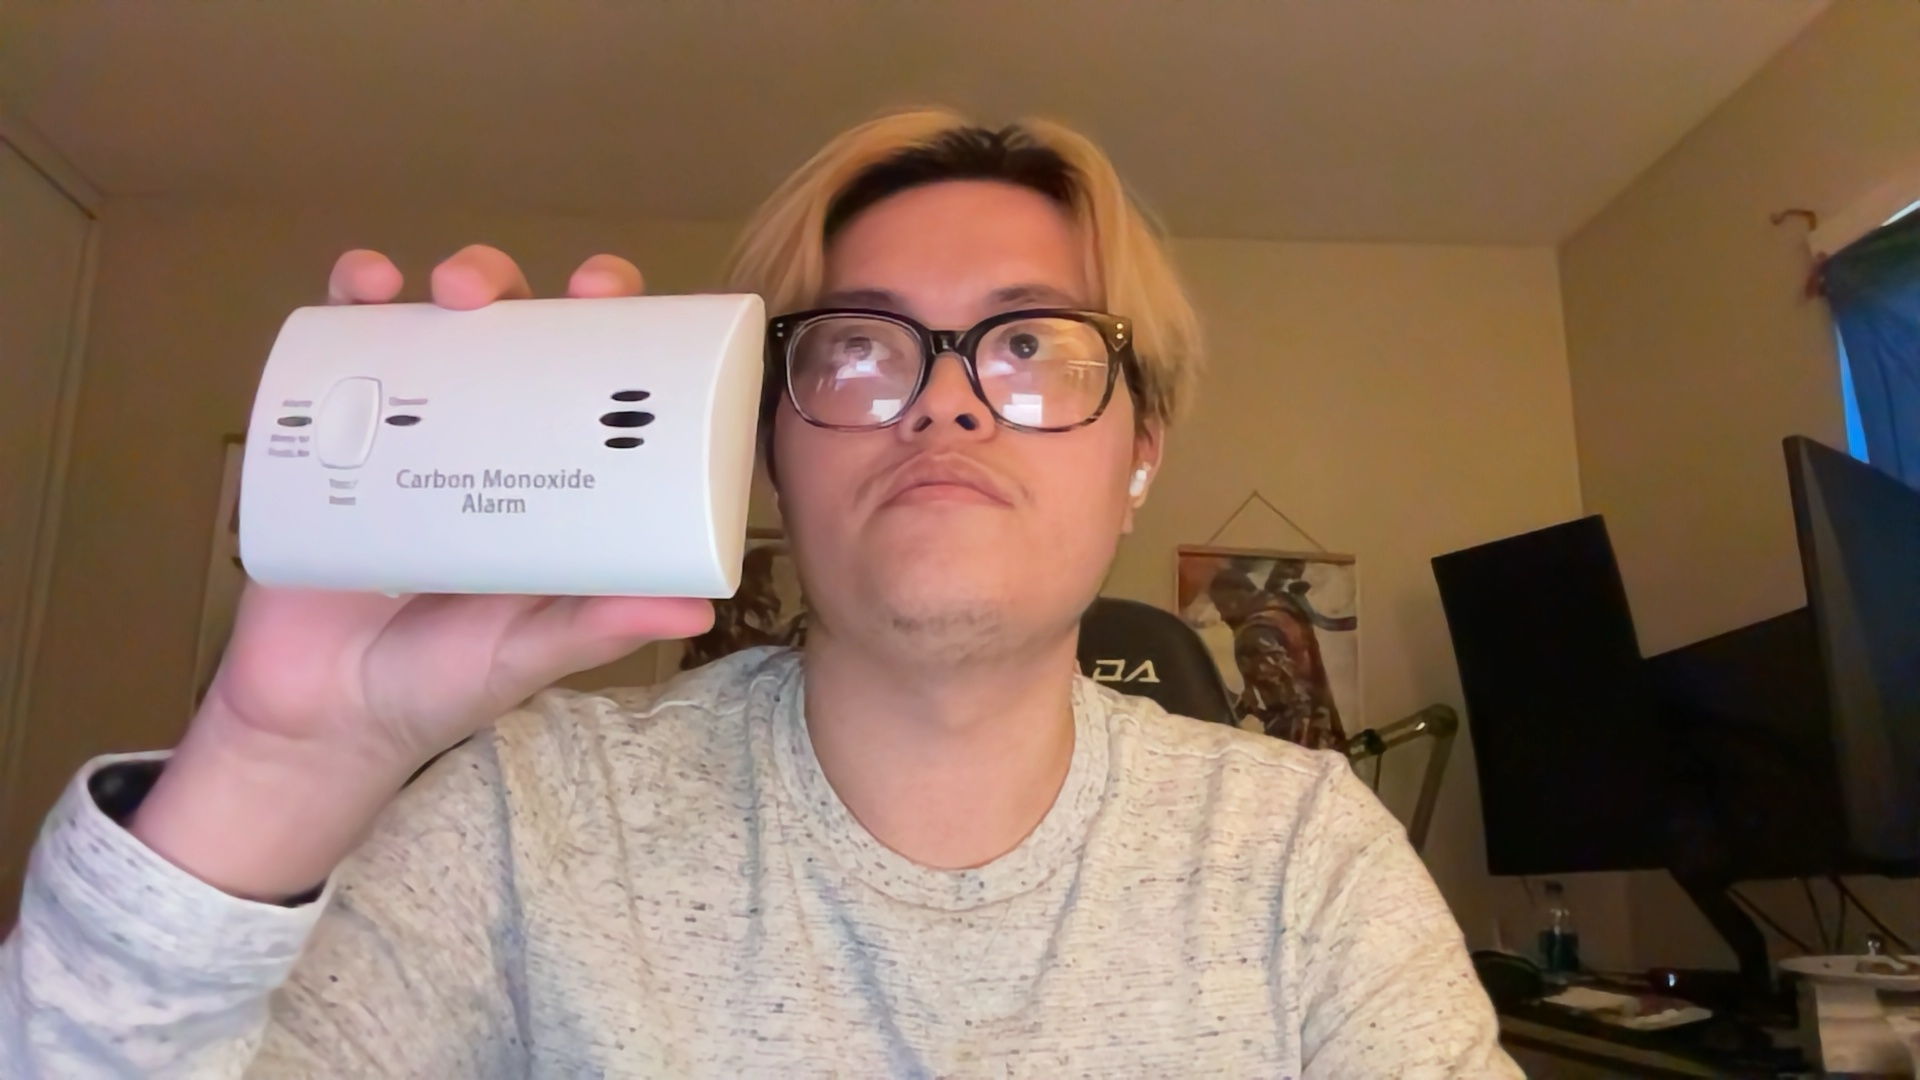carbonmonitor: (228, 284, 777, 599)
